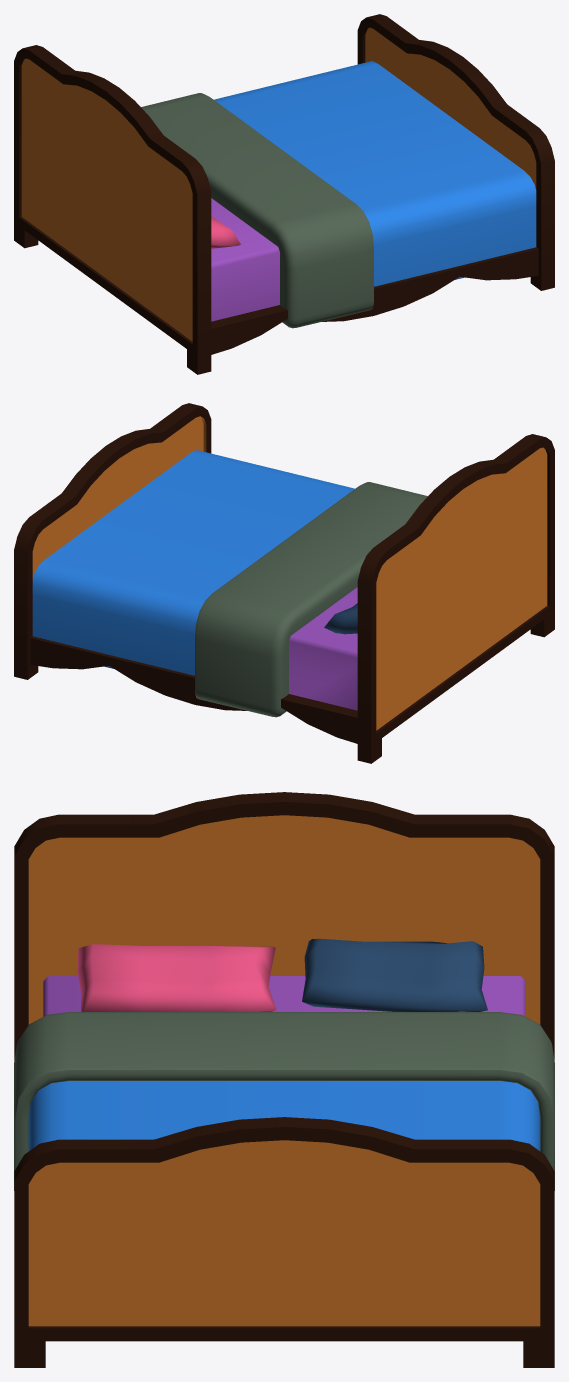
The model's file is Lit_1.fbx.
3 renders of one model, top to bottom at view 1: azimuth 30°, elevation 25°; view 2: azimuth 150°, elevation 25°; view 3: azimuth 270°, elevation 25°, orthographic. The views are drawn at different scales.
Parts seen in each view (by area): view 1: SM_Lit_1; view 2: SM_Lit_1; view 3: SM_Lit_1.
Boxes of the visible parts, x1,y1,x2,y2 form: SM_Lit_1: (14, 14, 554, 374); SM_Lit_1: (14, 403, 554, 763); SM_Lit_1: (14, 792, 554, 1367).
Bounding box in the file's own units: 2.08 × 1.2 × 1.85.
